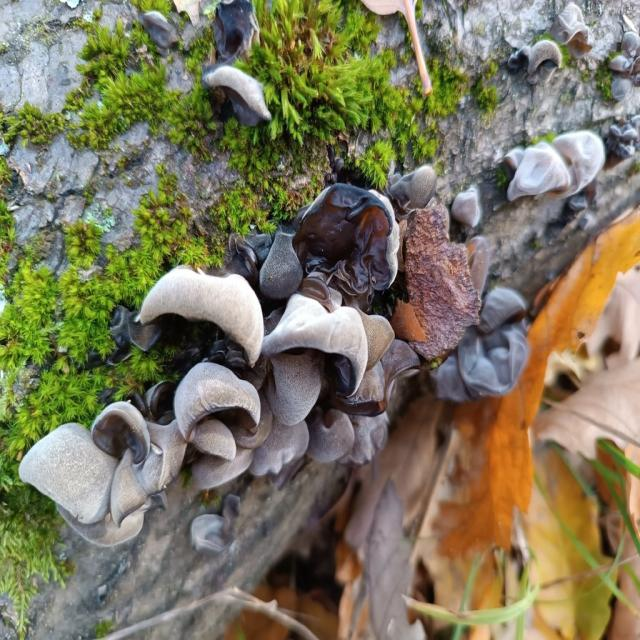Matang: (32, 164, 492, 555), (191, 63, 293, 148), (211, 0, 265, 59)
